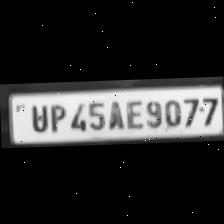0: (160, 96, 182, 128)
4: (66, 100, 86, 132)
5: (84, 98, 104, 131)
7: (179, 94, 199, 128), (198, 94, 218, 128)
9: (143, 97, 163, 128)
A: (103, 97, 123, 131)
E: (122, 97, 144, 130)
P: (45, 101, 65, 133)
U: (26, 101, 48, 132)
